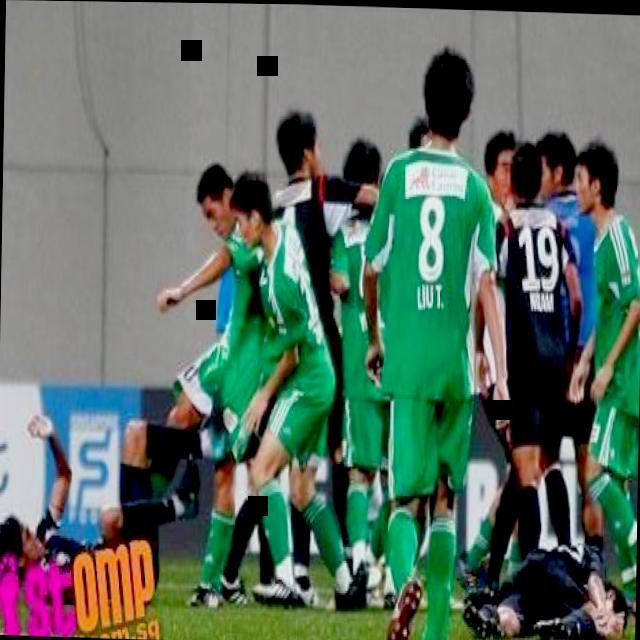Fall-Detected: (451, 514, 636, 640)
